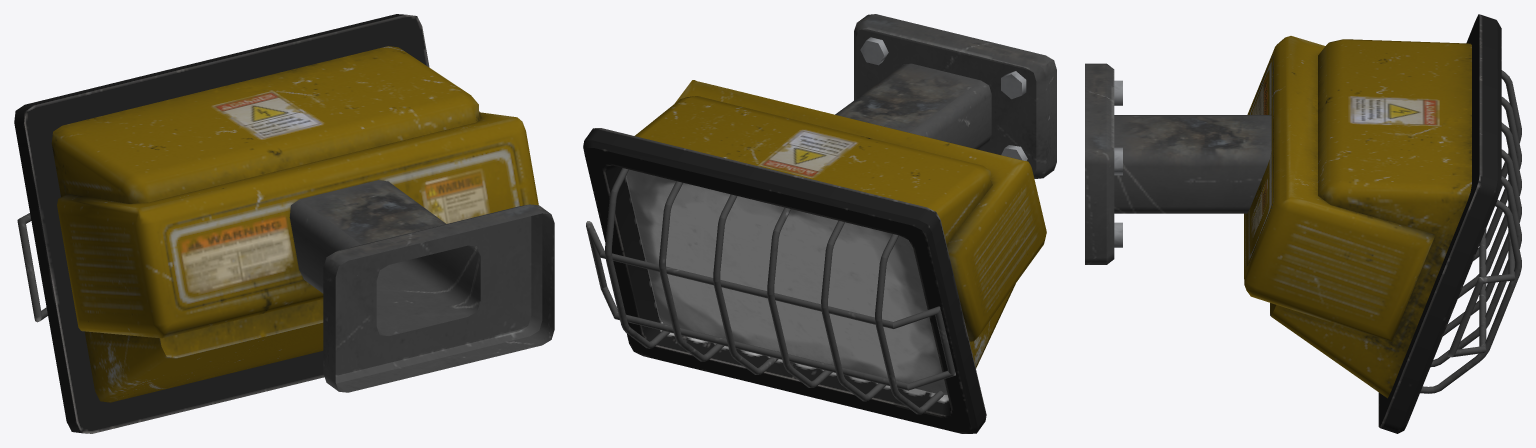
The model's file is Prop_Wall_Light.fbx.
3 renders of one model, left to right at view 1: azimuth 30°, elevation 25°; view 2: azimuth 150°, elevation 25°; view 3: azimuth 270°, elevation 25°, orthographic. The views are drawn at different scales.
Visible parts, largest first — view 1: Prop_Wall_Light; view 2: Prop_Wall_Light; view 3: Prop_Wall_Light.
Part boxes in pixels (x1=…): Prop_Wall_Light: x1=14, y1=14, x2=554, y2=433; Prop_Wall_Light: x1=583, y1=14, x2=1056, y2=433; Prop_Wall_Light: x1=1085, y1=14, x2=1521, y2=433.
Size of the model in its own units: 20.51 by 14.22 by 21.86.
